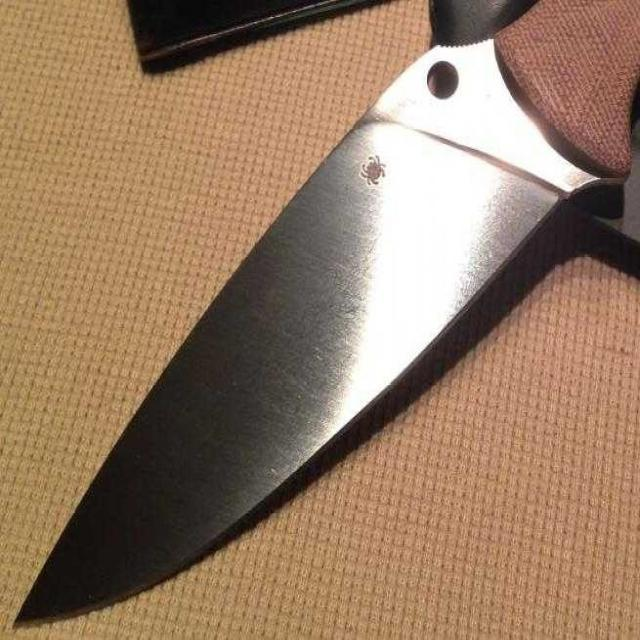knife: (7, 0, 640, 637)
